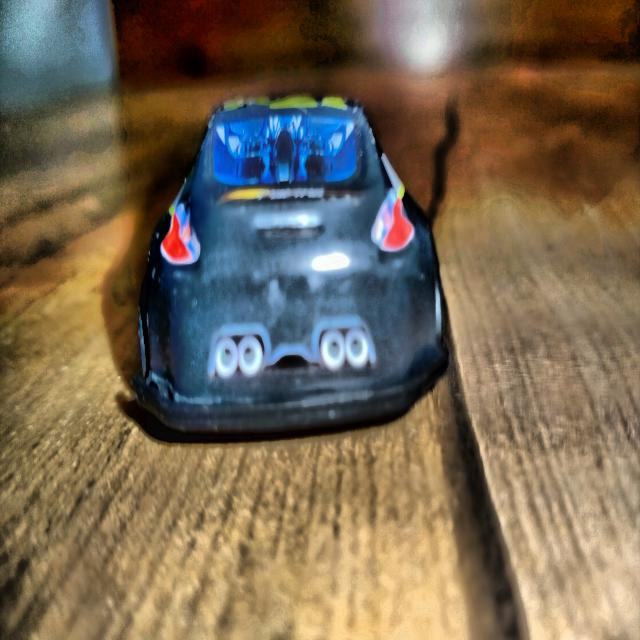Car: (133, 96, 447, 432)
